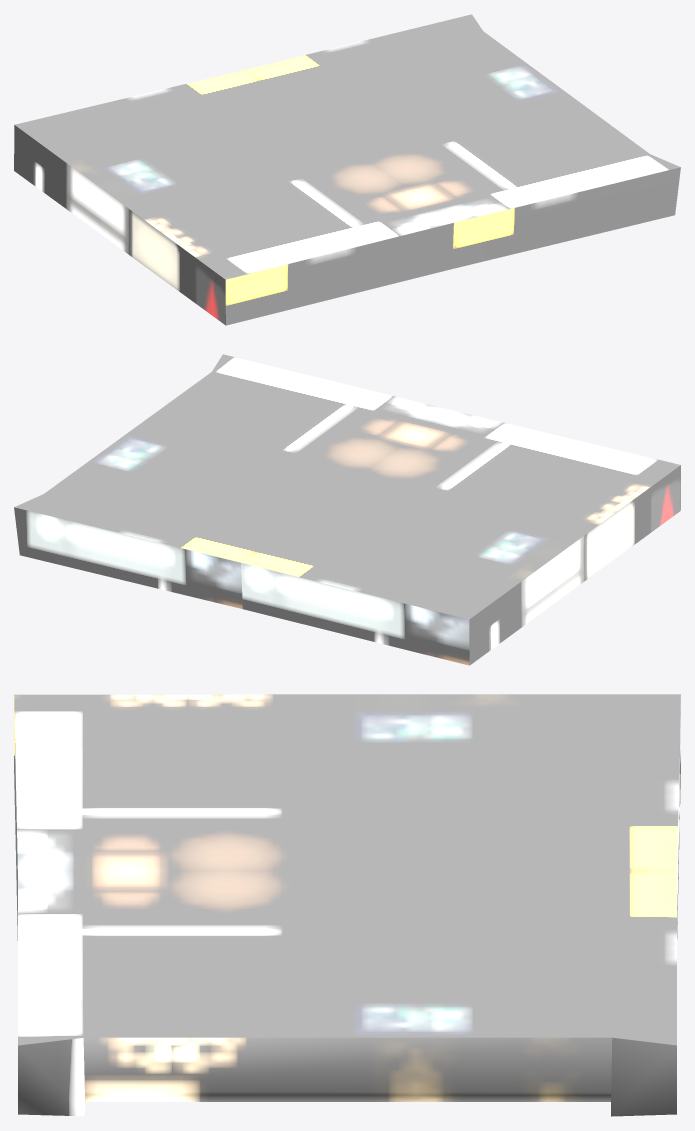
Rendered from SM_H_Government_Office_ServerParts_04_ATLAS.fbx.
3 renders of one model, top to bottom at view 1: azimuth 30°, elevation 25°; view 2: azimuth 150°, elevation 25°; view 3: azimuth 270°, elevation 25°, orthographic. The views are drawn at different scales.
Visible parts, largest first — view 1: SM_H_Government_Office_ServerParts_04_ATLAS_LOD0; view 2: SM_H_Government_Office_ServerParts_04_ATLAS_LOD0; view 3: SM_H_Government_Office_ServerParts_04_ATLAS_LOD0.
Boxes of the visible parts, x1,y1,x2,y2 form: SM_H_Government_Office_ServerParts_04_ATLAS_LOD0: (14,14,680,325); SM_H_Government_Office_ServerParts_04_ATLAS_LOD0: (14,354,680,665); SM_H_Government_Office_ServerParts_04_ATLAS_LOD0: (14,694,680,1116).
Size of the model in its own units: 50.67 by 40.63 by 4.99.
